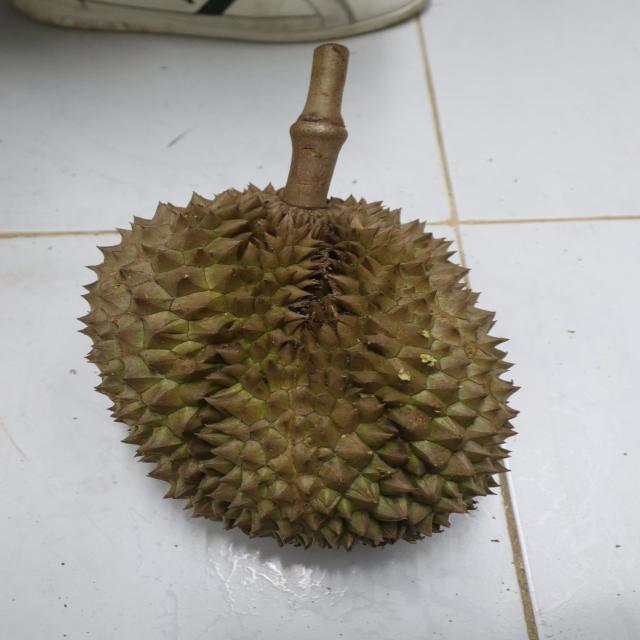mature: (80, 178, 525, 552)
